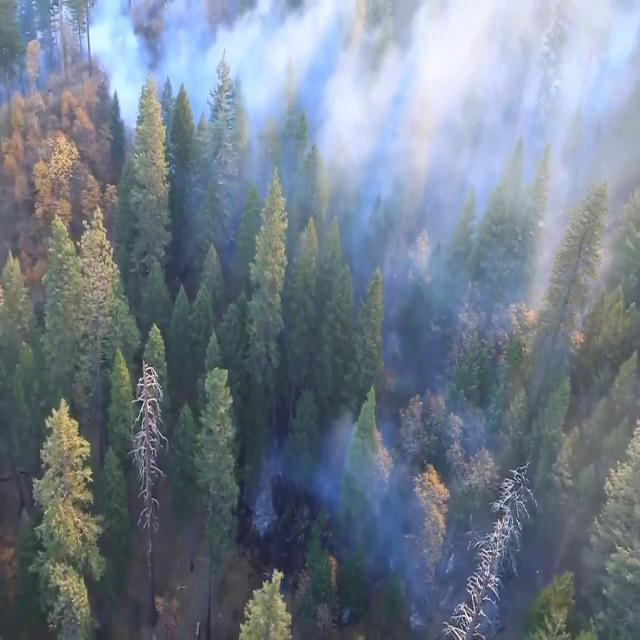Smoke: (245, 10, 597, 184), (104, 2, 437, 122), (312, 423, 492, 605)
